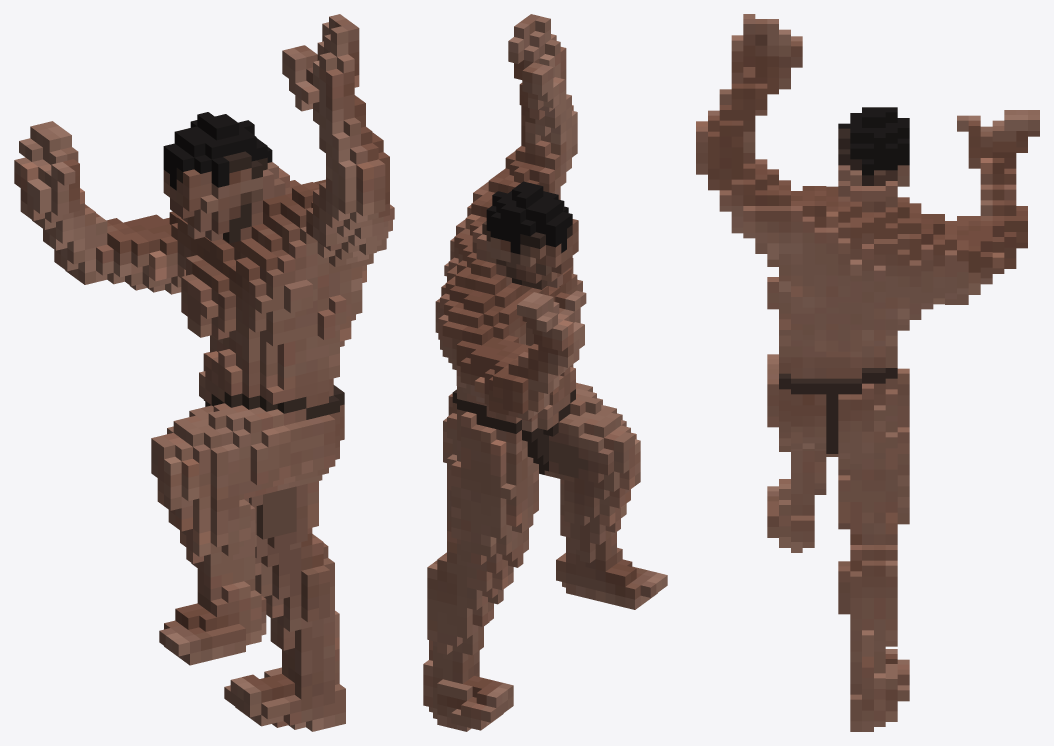
The model's file is sys.obj.
3 views of the same model, side by side, from view 1: azimuth 30°, elevation 25°; view 2: azimuth 150°, elevation 25°; view 3: azimuth 270°, elevation 25° (orthographic). The views are drawn at different scales.
Parts seen in each view (by area): view 1: man; view 2: man; view 3: man.
Part boxes in pixels (<box>): man: <box>14,14,394,731</box>; man: <box>423,14,667,731</box>; man: <box>696,14,1039,731</box>.
Bounding box in the file's own units: 2.1 × 6.4 × 2.9.
Materials: 1 (1 with a texture image).
